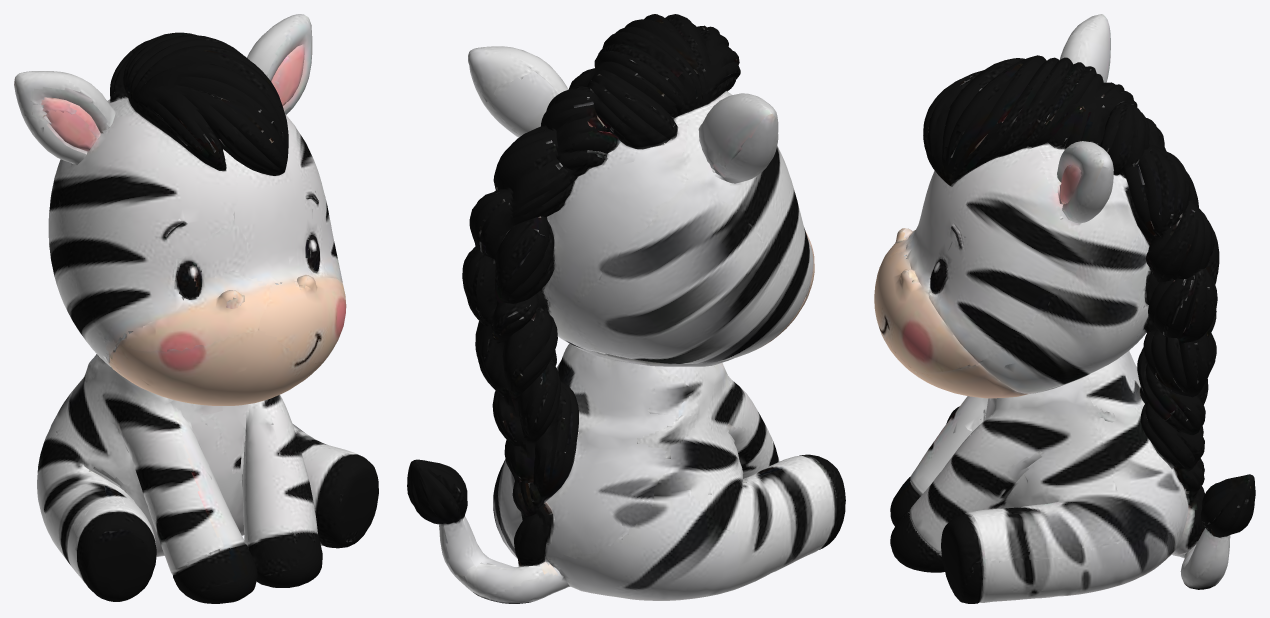
3 renders of one model, left to right at view 1: azimuth 30°, elevation 25°; view 2: azimuth 150°, elevation 25°; view 3: azimuth 270°, elevation 25°, orthographic. The views are drawn at different scales.
Parts seen in each view (by area): view 1: output; view 2: output; view 3: output.
Part boxes in pixels (box(x1,y1,x2,y2)): output: box(14, 14, 378, 603); output: box(407, 14, 845, 603); output: box(874, 14, 1255, 603).
Size of the model in its own units: 1.17 by 1.9 by 1.36.
1 material, 1 textured.
